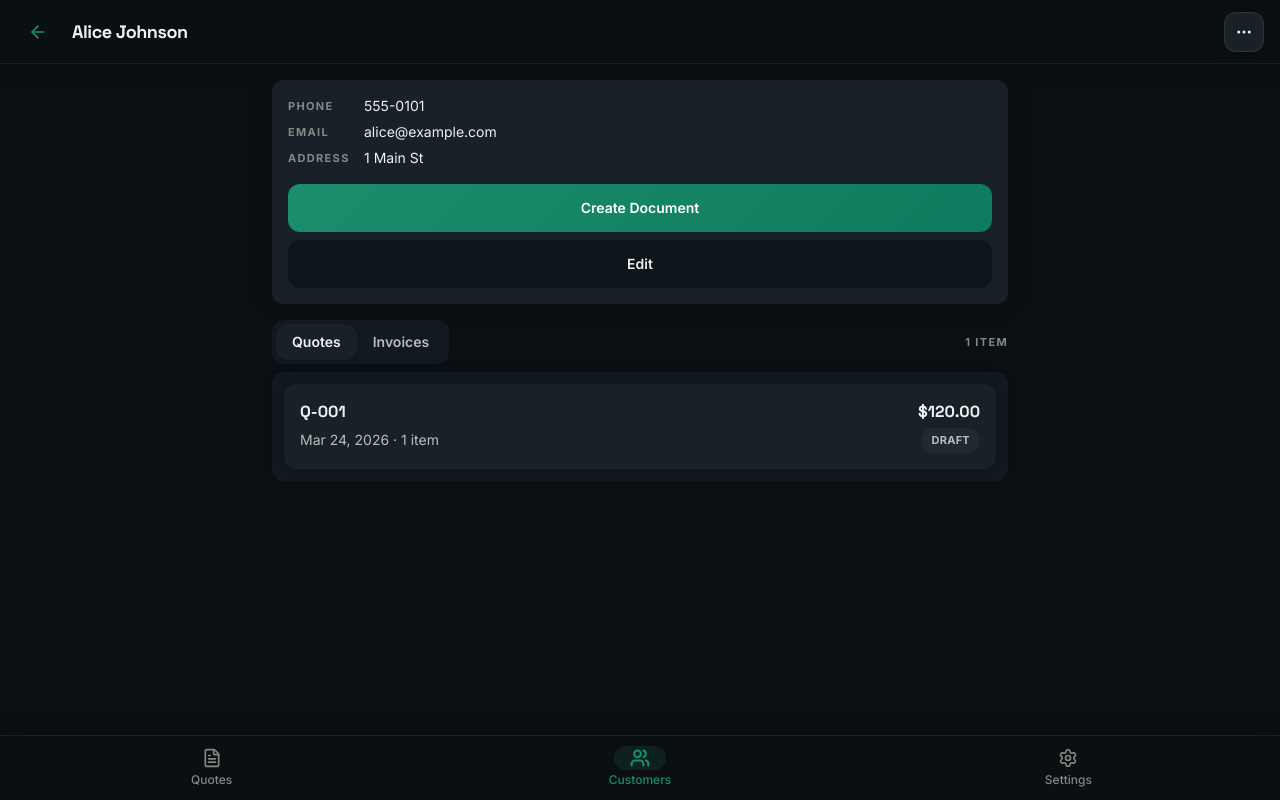
Scenario: CustomerDetailScreen › renders invoice history empty state when customer has no invoices
Expected: the heading "Alice Johnson" is shown, [72,20,188,43]
Click the button "Invoices": click(401, 342) [357,324,445,360]
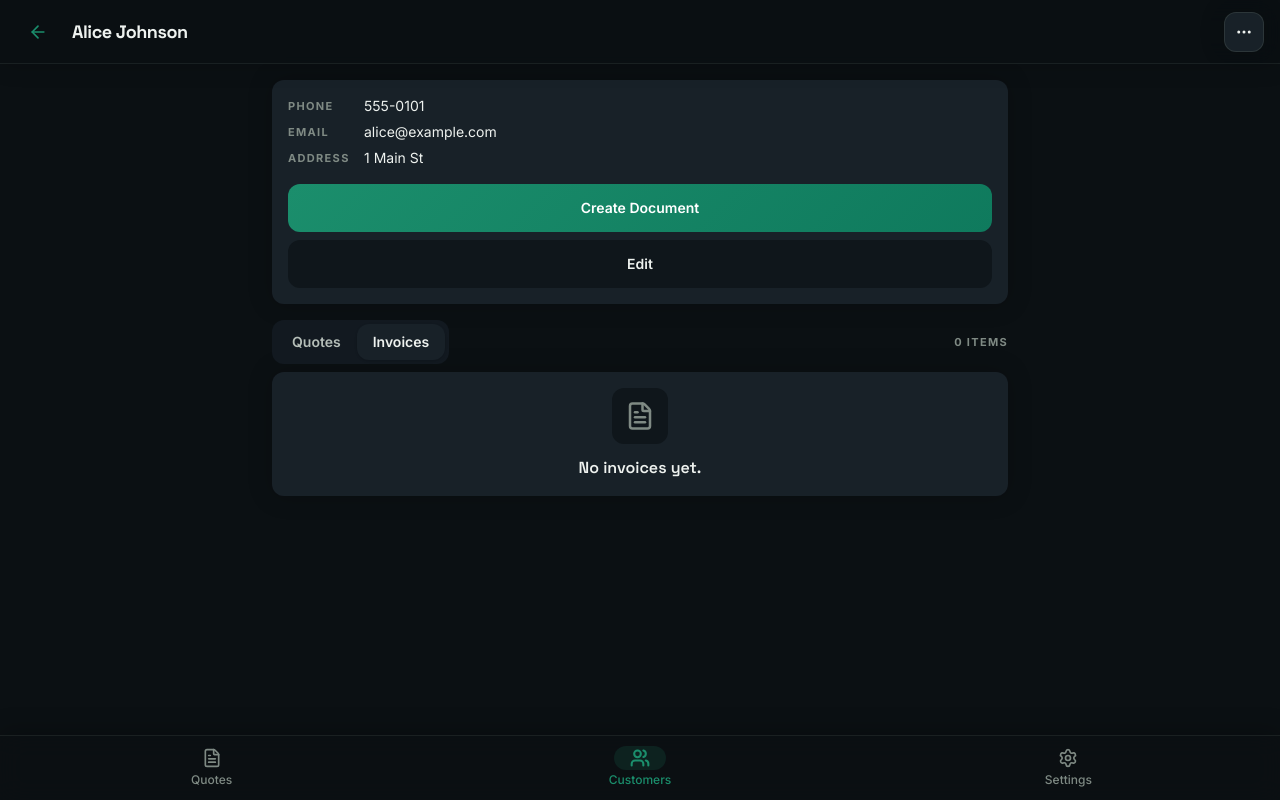
Expected: the heading "No invoices yet." is shown, [579,456,701,480]
Expected: the icon below "1 Main St" is shown, [625,401,655,431]
